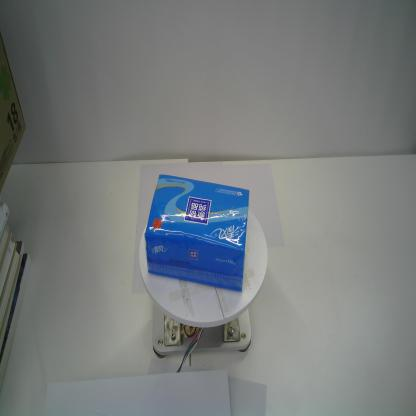Tissue: (144, 172, 251, 293)
